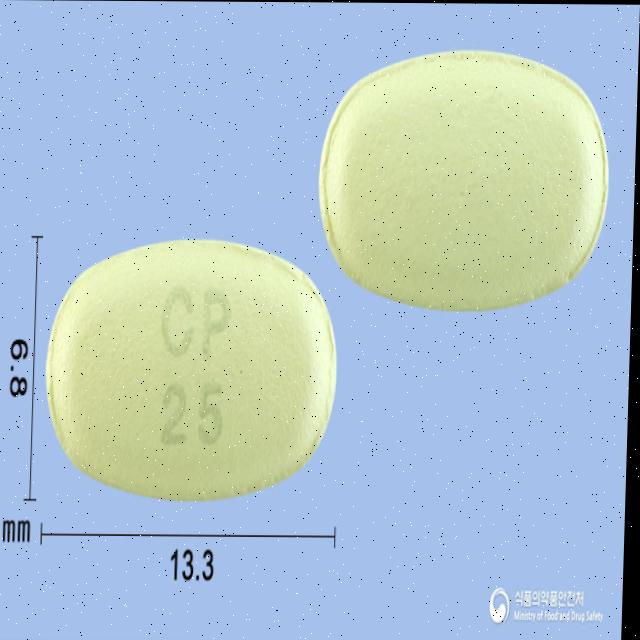Clarod: (43, 234, 344, 510)
